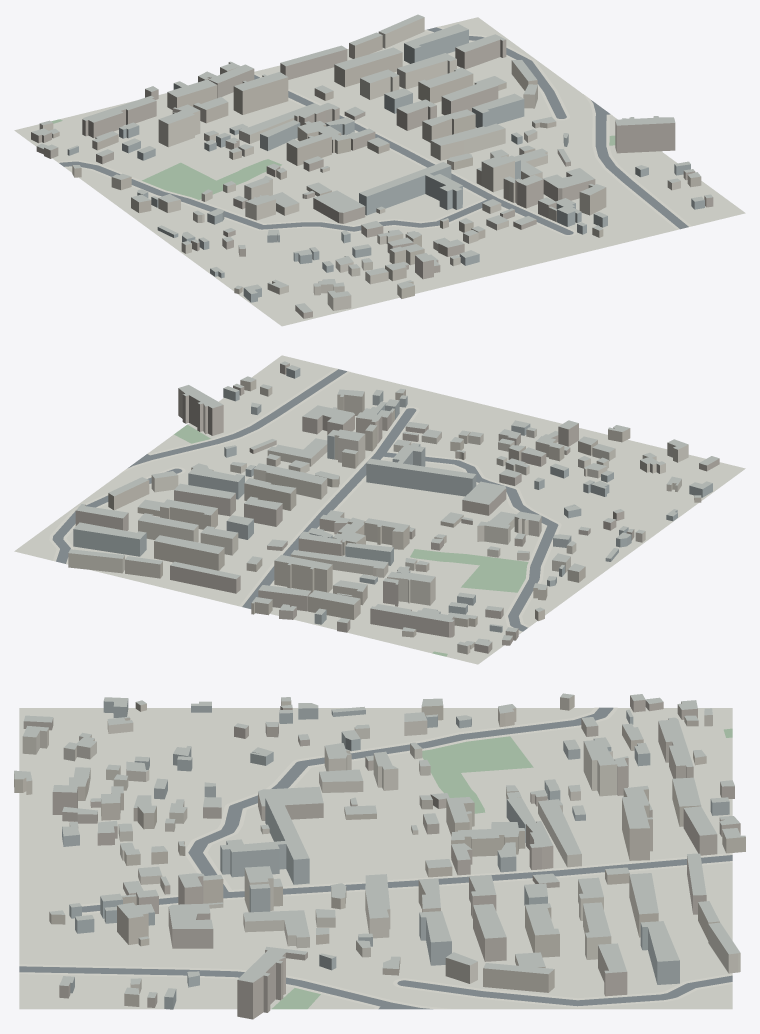
3 renders of one model, top to bottom at view 1: azimuth 30°, elevation 25°; view 2: azimuth 150°, elevation 25°; view 3: azimuth 270°, elevation 25°, orthographic. The views are drawn at different scales.
Visible parts, largest first — view 1: city; view 2: city; view 3: city.
Part boxes in pixels (box(x1,y1,x2,y2)): city: box(14, 14, 745, 326); city: box(14, 355, 745, 664); city: box(14, 693, 745, 1019).
Size of the model in its own units: 522 by 28.5 by 513.
